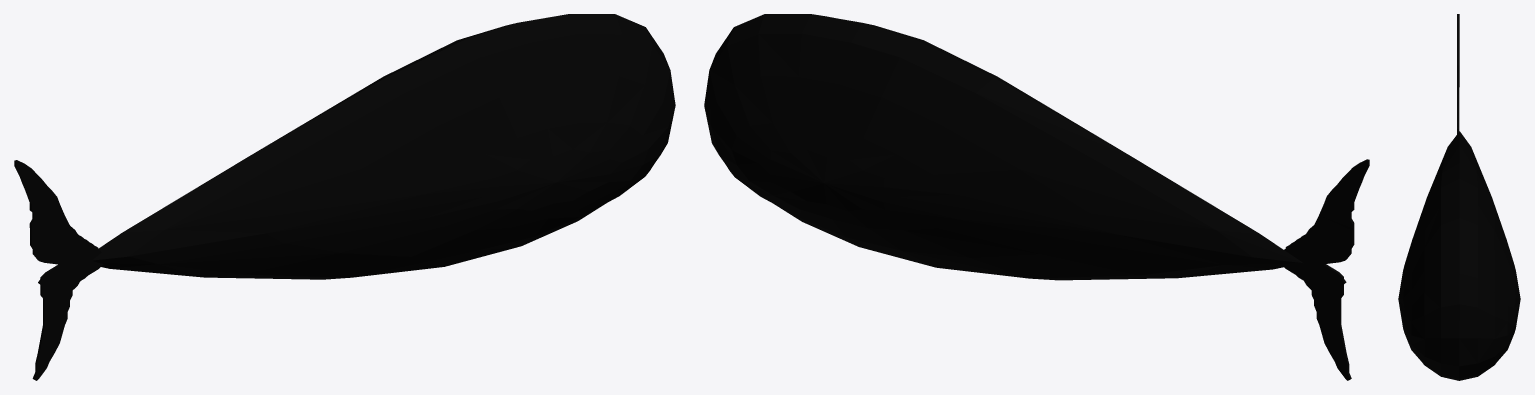
File: Whale.glb
3 views of the same model, side by side, from view 1: azimuth 30°, elevation 25°; view 2: azimuth 150°, elevation 25°; view 3: azimuth 270°, elevation 25° (orthographic). The views are drawn at different scales.
Visible parts, largest first — view 1: Whale; view 2: Whale; view 3: Whale.
Boxes of the visible parts, bbox=[...] form: Whale: bbox=[14, 14, 675, 380]; Whale: bbox=[704, 14, 1369, 380]; Whale: bbox=[1398, 14, 1520, 380].
Size of the model in its own units: 271 by 94.68 by 55.74.
Materials: 1 (1 with a texture image).
